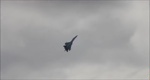maybay_muctieu: (62, 33, 77, 56)
